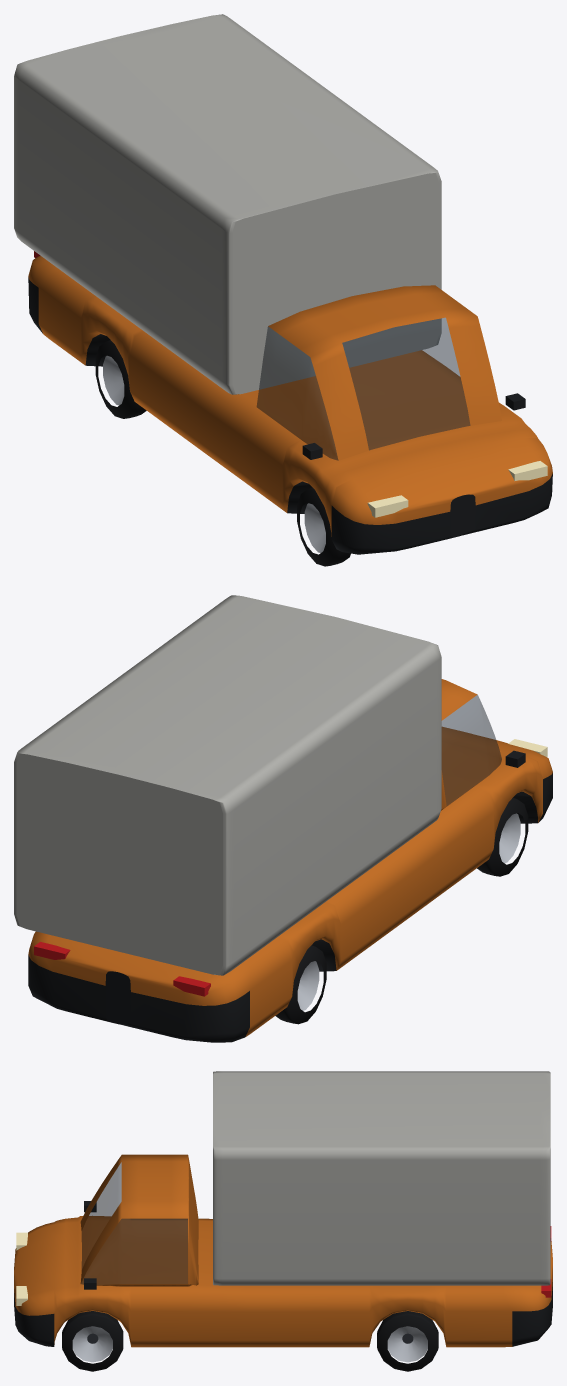
The model's file is mobile.glb.
3 renders of one model, top to bottom at view 1: azimuth 30°, elevation 25°; view 2: azimuth 150°, elevation 25°; view 3: azimuth 270°, elevation 25°, orthographic. The views are drawn at different scales.
Visible parts, largest first — view 1: body, glass, tyre_fr, tyre_rr, rim_rr, rim_fr; view 2: body, glass, tyre_fr, tyre_rr, rim_rr, rim_fr; view 3: body, glass, tyre_fl, tyre_rl, rim_rl, rim_fl.
Boxes of the visible parts, box(x1,y1,x2,y2) form: body: box(14, 14, 552, 554); glass: box(256, 317, 470, 460); tyre_fr: box(297, 487, 350, 566); tyre_rr: box(95, 340, 146, 418); rim_rr: box(103, 355, 124, 405); rim_fr: box(304, 503, 325, 552); body: box(14, 595, 552, 1042); glass: box(441, 695, 501, 805); tyre_fr: box(477, 797, 528, 876); tyre_rr: box(275, 945, 326, 1024); rim_rr: box(297, 961, 319, 1010); rim_fr: box(499, 813, 520, 863); body: box(14, 1071, 552, 1347); glass: box(81, 1162, 187, 1284); tyre_fl: box(62, 1311, 123, 1371); tyre_rl: box(377, 1311, 438, 1371); rim_rl: box(387, 1326, 427, 1362); rim_fl: box(72, 1326, 112, 1362).
Size of what is drawn, in the model's own units: 2.34 by 3.02 by 6.5.
